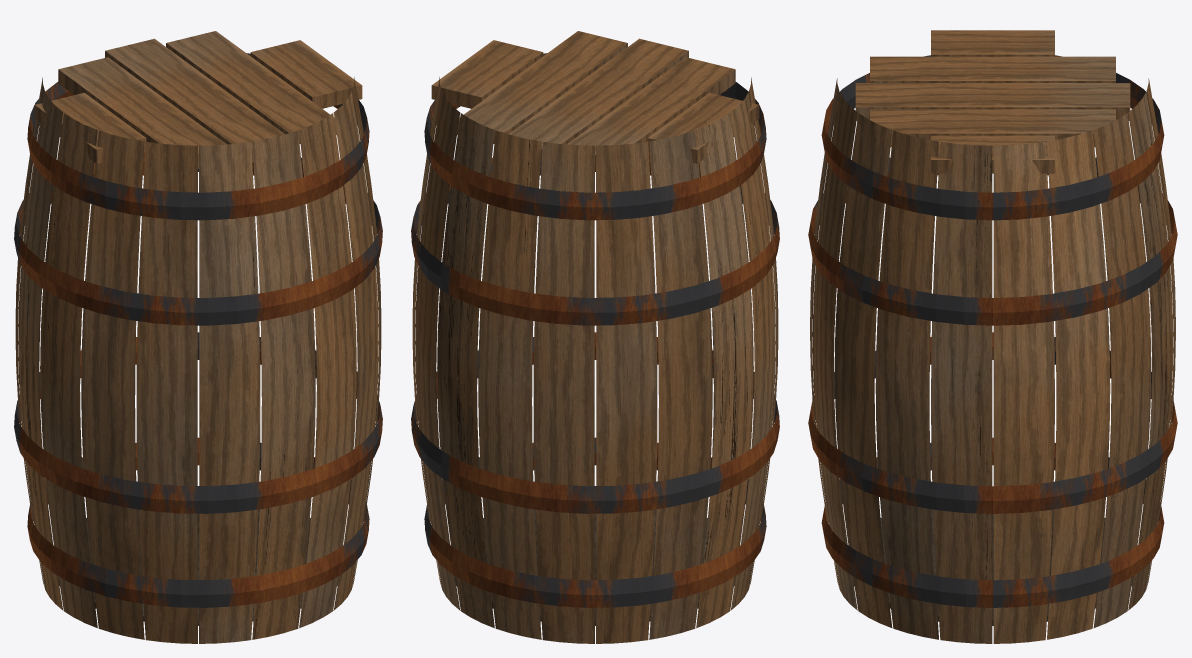
The model's file is barrel.glb.
The picture shows the model from 3 angles, left to right: view 1: azimuth 30°, elevation 25°; view 2: azimuth 150°, elevation 25°; view 3: azimuth 270°, elevation 25°; orthographic projection.
Parts seen in each view (by area): view 1: barrel; view 2: barrel; view 3: barrel.
Boxes of the visible parts, box(x1,y1,x2,y2) form: barrel: box(14, 31, 382, 643); barrel: box(411, 31, 779, 643); barrel: box(808, 30, 1177, 643).
Size of the model in its own units: 0.6047 by 0.9 by 0.6047.
Materials: 3 (3 with a texture image).
